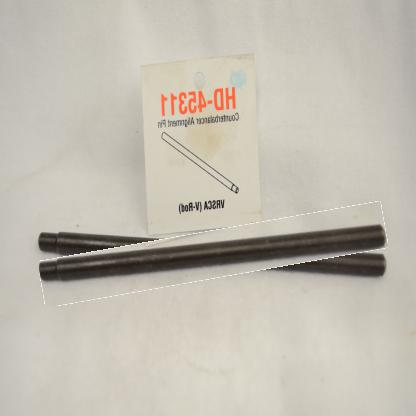Pen: (38, 216, 388, 293)
